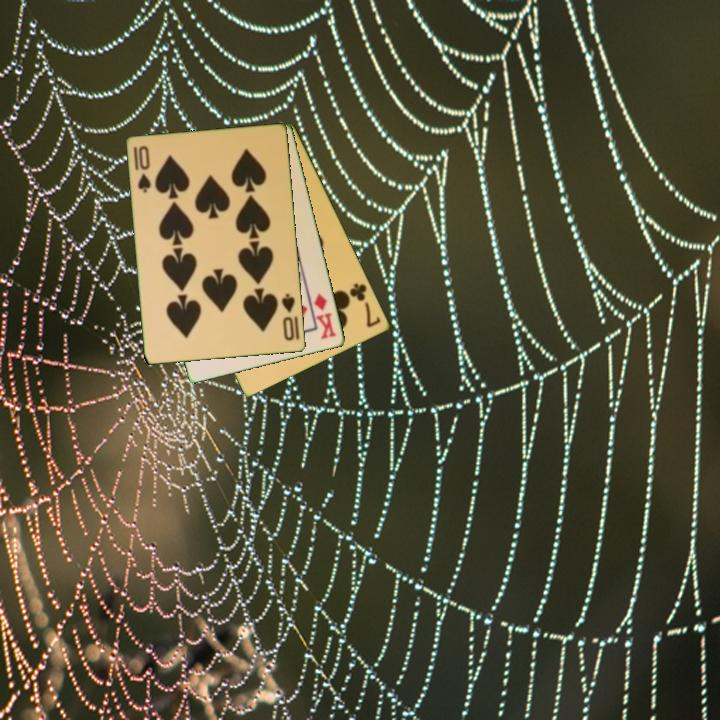10s: (130, 143, 154, 196), (278, 290, 298, 344)
7c: (346, 279, 384, 331)
Kd: (310, 290, 339, 342)
